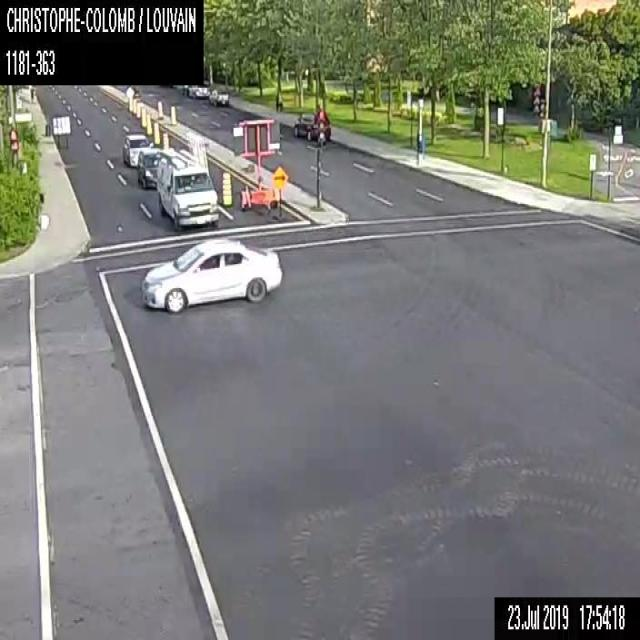construction: (231, 114, 288, 214), (272, 164, 287, 220), (220, 168, 232, 205), (60, 114, 70, 147), (52, 113, 61, 147), (153, 120, 160, 143), (169, 103, 176, 125), (145, 113, 152, 134), (140, 105, 146, 126), (157, 98, 163, 118), (162, 132, 168, 148), (136, 100, 141, 118), (132, 96, 137, 112), (128, 94, 132, 110)
vehicle: (141, 236, 282, 313), (156, 130, 218, 232), (292, 109, 330, 140), (121, 133, 153, 167), (137, 146, 161, 188), (208, 86, 230, 106), (188, 80, 210, 97)
